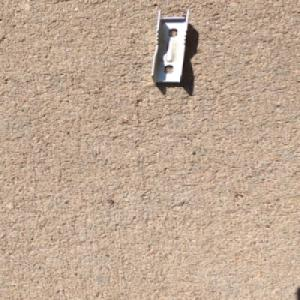ClampPart: (148, 8, 193, 86)
